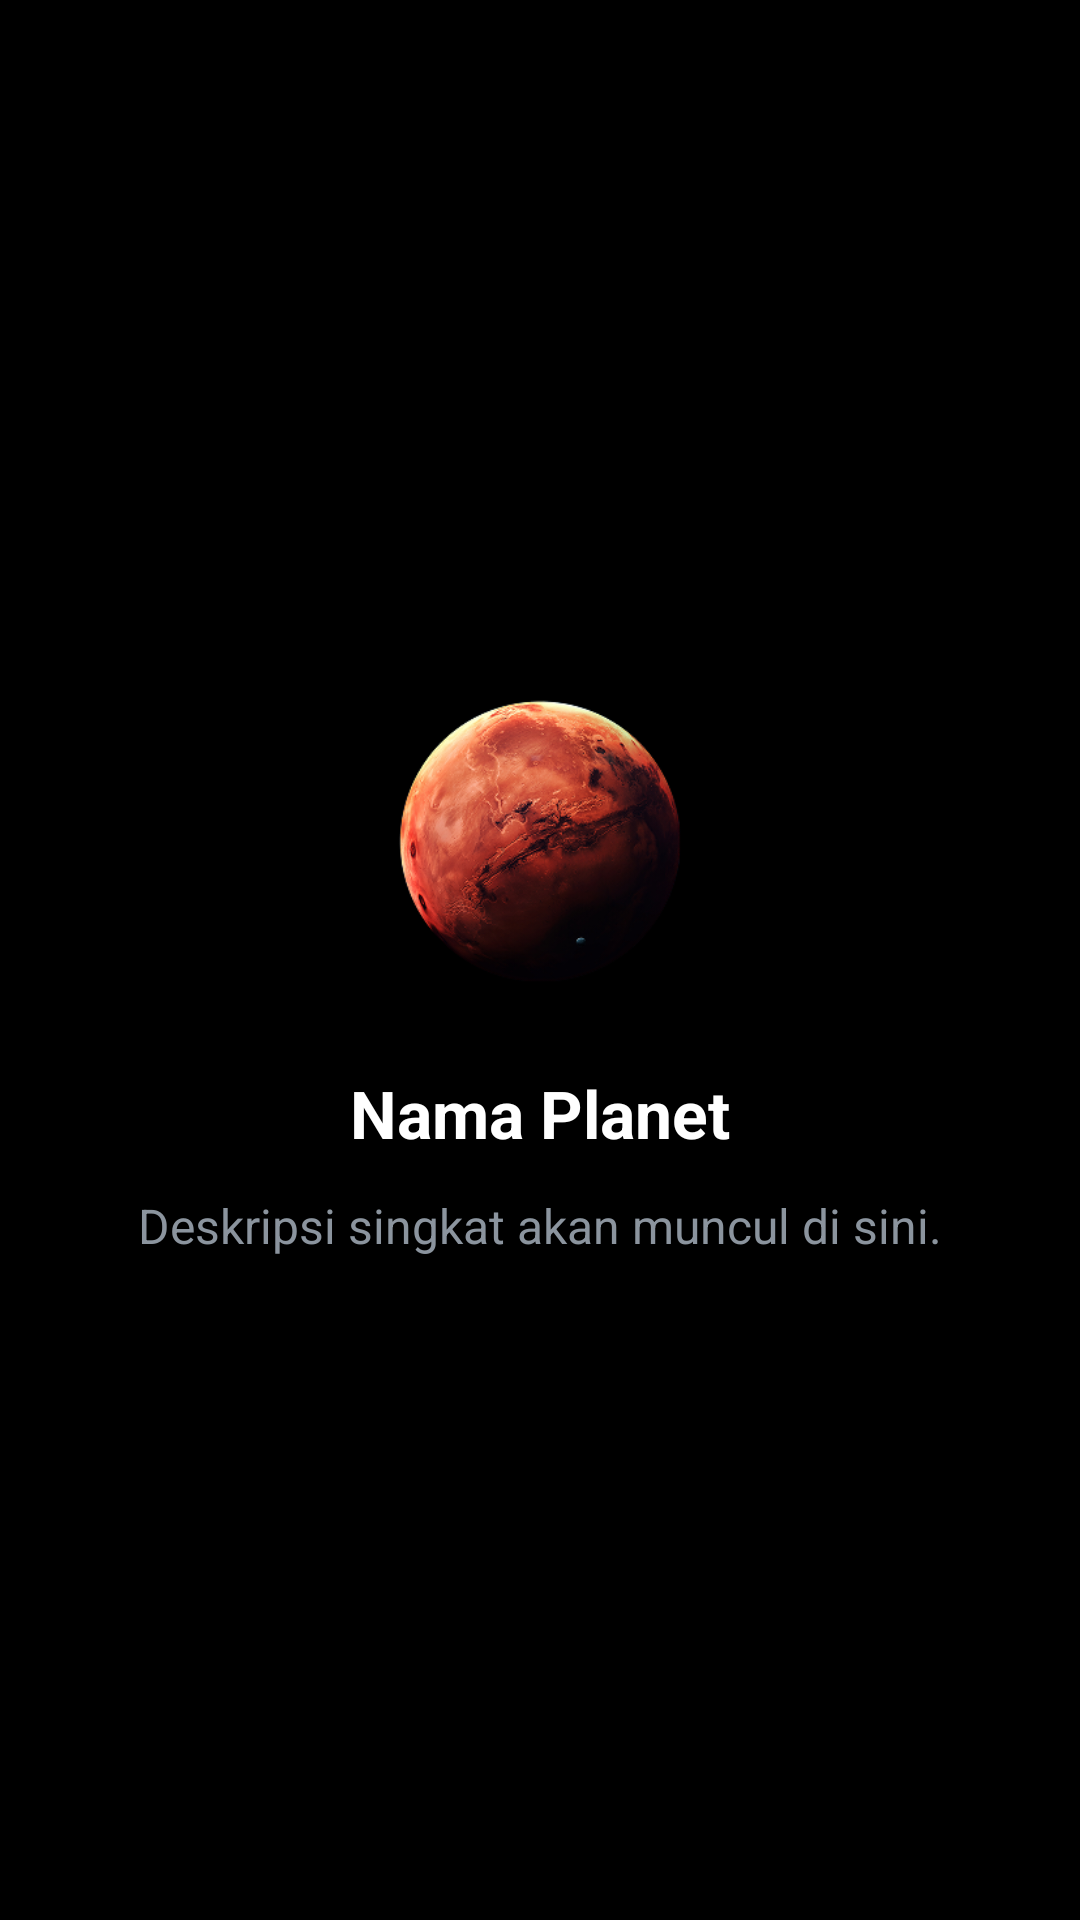

Locate icon controls on the screen. Image size 1080*1920, boxes as (x1, y1, x2, y2).
mars: (399, 700, 679, 957)
